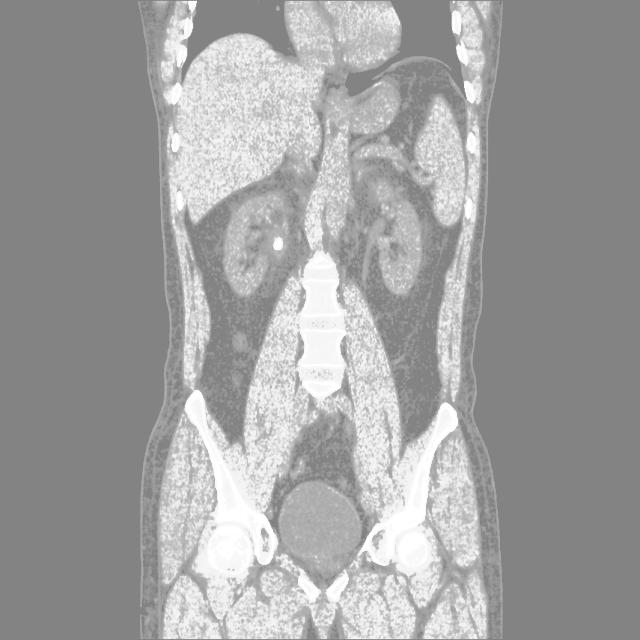STONE: (199, 152, 440, 306)
